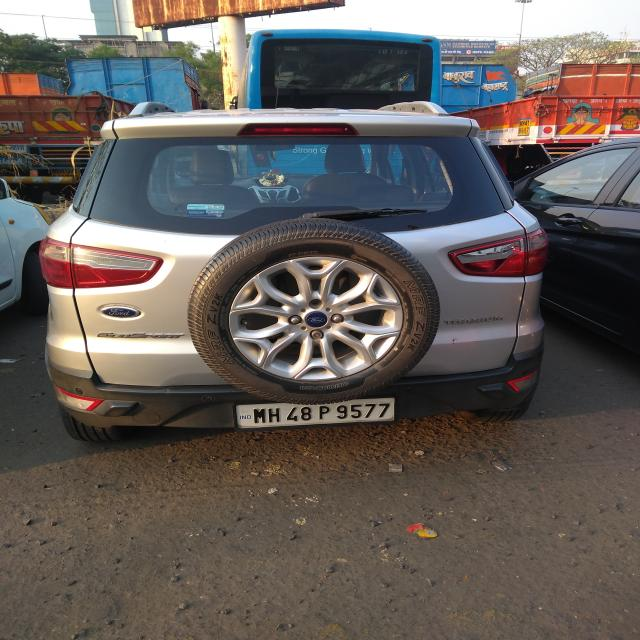Number-Plate: (241, 398, 393, 428)
